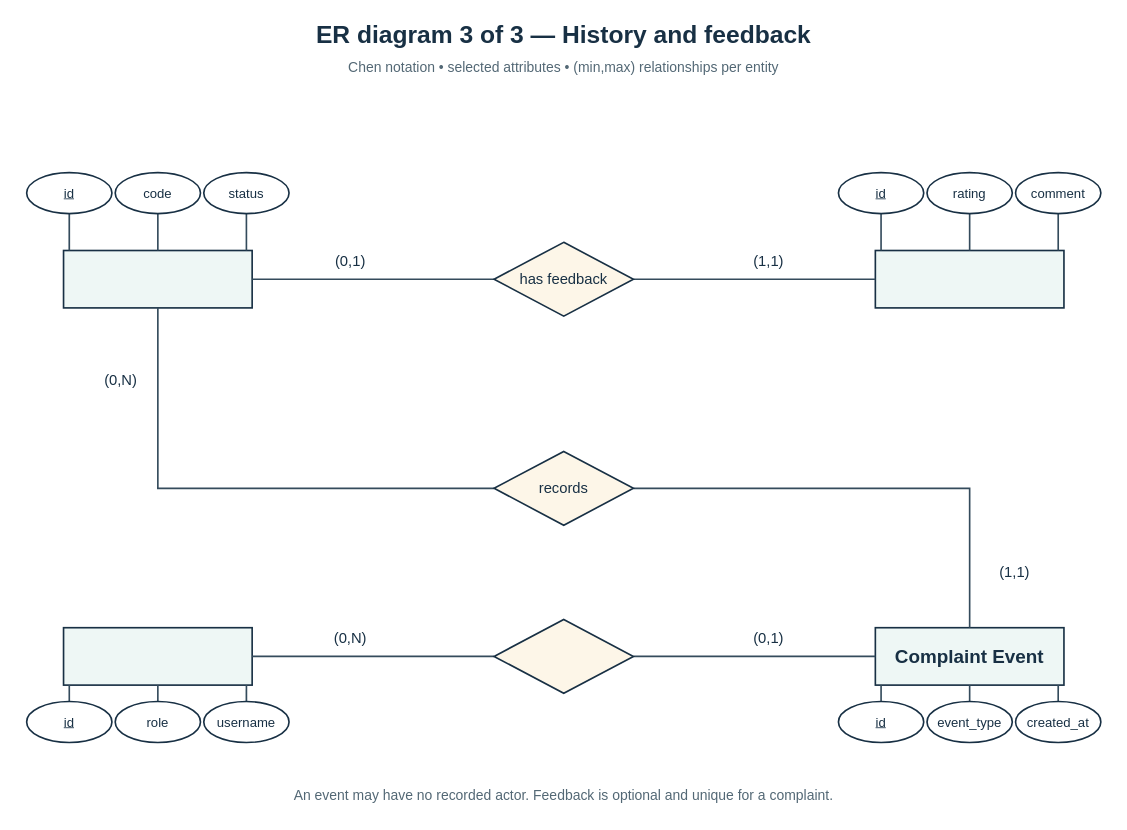
This 1127x830 diagram has some shape labels left out. The centre of each missing label's shape, as x and y in pixels:
"acts on" goes at [563,656].
"Complaint" goes at [157,278].
"Feedback" goes at [969,278].
"User" goes at [157,656].
